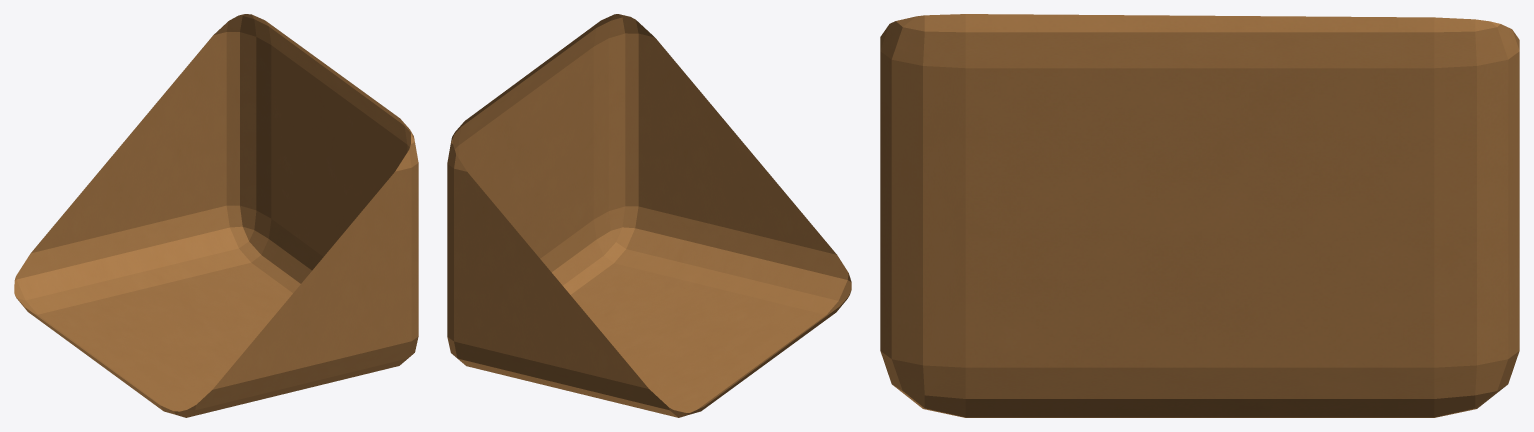
Rendered from BriquePierreCoupeBisect.glb.
3 renders of one model, left to right at view 1: azimuth 30°, elevation 25°; view 2: azimuth 150°, elevation 25°; view 3: azimuth 270°, elevation 25°, orthographic. The views are drawn at different scales.
Visible parts, largest first — view 1: BriquePierreCoupe.001; view 2: BriquePierreCoupe.001; view 3: BriquePierreCoupe.001.
Part boxes in pixels (x1=…): BriquePierreCoupe.001: x1=14, y1=14, x2=418, y2=417; BriquePierreCoupe.001: x1=447, y1=14, x2=851, y2=417; BriquePierreCoupe.001: x1=880, y1=14, x2=1519, y2=417.
Size of the model in its own units: 4.08 by 3.79 by 5.29.
1 material, 1 textured.
